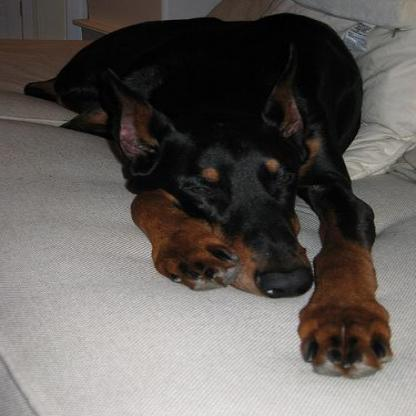Doberman: (19, 10, 390, 378)
